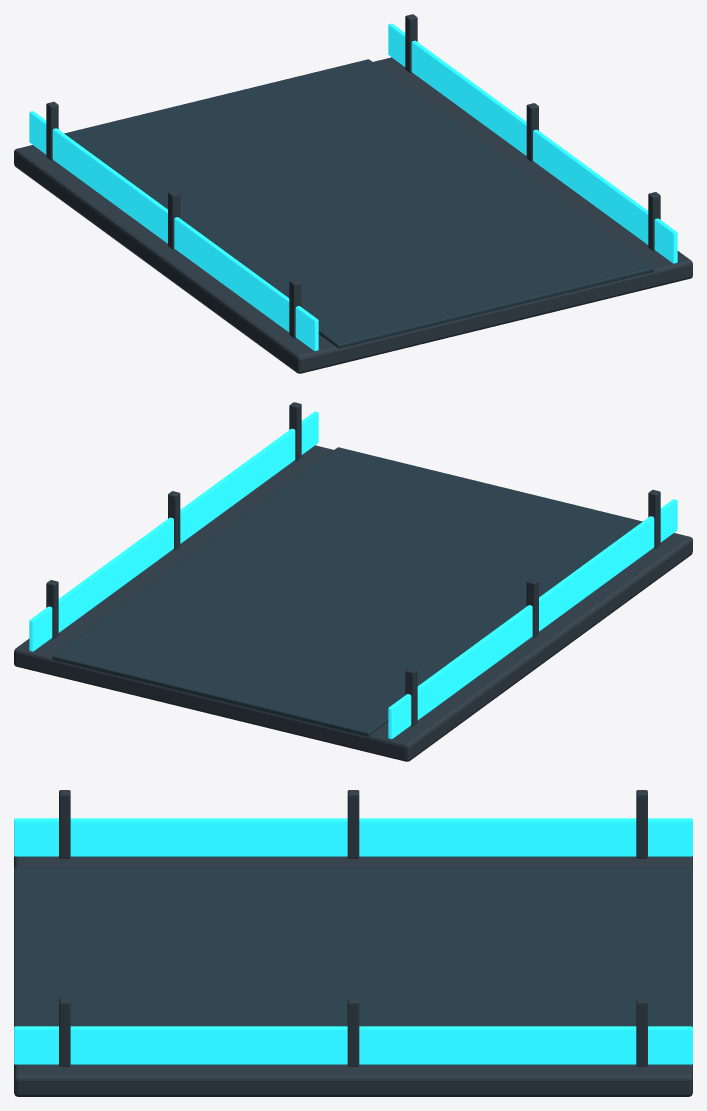
Rendered from bridge_lod2.glb.
The picture shows the model from 3 angles, top to bottom: view 1: azimuth 30°, elevation 25°; view 2: azimuth 150°, elevation 25°; view 3: azimuth 270°, elevation 25°; orthographic projection. The views are drawn at different scales.
Parts seen in each view (by area): view 1: ND_Batch_ND_WetAsphalt, ND_Batch_ND_RooftopMetal, ND_Batch_ND_CityCyanMuted; view 2: ND_Batch_ND_WetAsphalt, ND_Batch_ND_RooftopMetal, ND_Batch_ND_CityCyanMuted; view 3: ND_Batch_ND_WetAsphalt, ND_Batch_ND_CityCyanMuted, ND_Batch_ND_RooftopMetal.
Boxes of the visible parts, x1,y1,x2,y2 form: ND_Batch_ND_WetAsphalt: (64,59,654,348); ND_Batch_ND_RooftopMetal: (14,14,692,373); ND_Batch_ND_CityCyanMuted: (29,23,677,350); ND_Batch_ND_WetAsphalt: (52,447,642,736); ND_Batch_ND_RooftopMetal: (14,402,692,761); ND_Batch_ND_CityCyanMuted: (29,411,677,738); ND_Batch_ND_WetAsphalt: (14,867,692,1026); ND_Batch_ND_CityCyanMuted: (14,818,692,1064); ND_Batch_ND_RooftopMetal: (14,790,692,1096).
Bounding box in the file's own units: 16 × 2.85 × 20.
